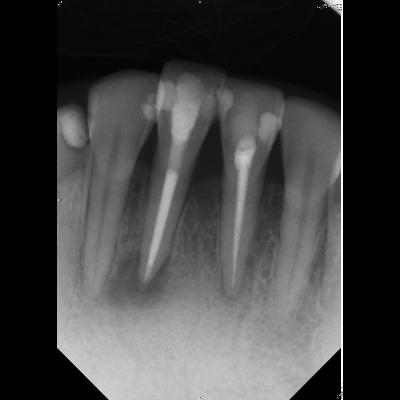tooth: (77, 69, 166, 303), (271, 93, 343, 331)
